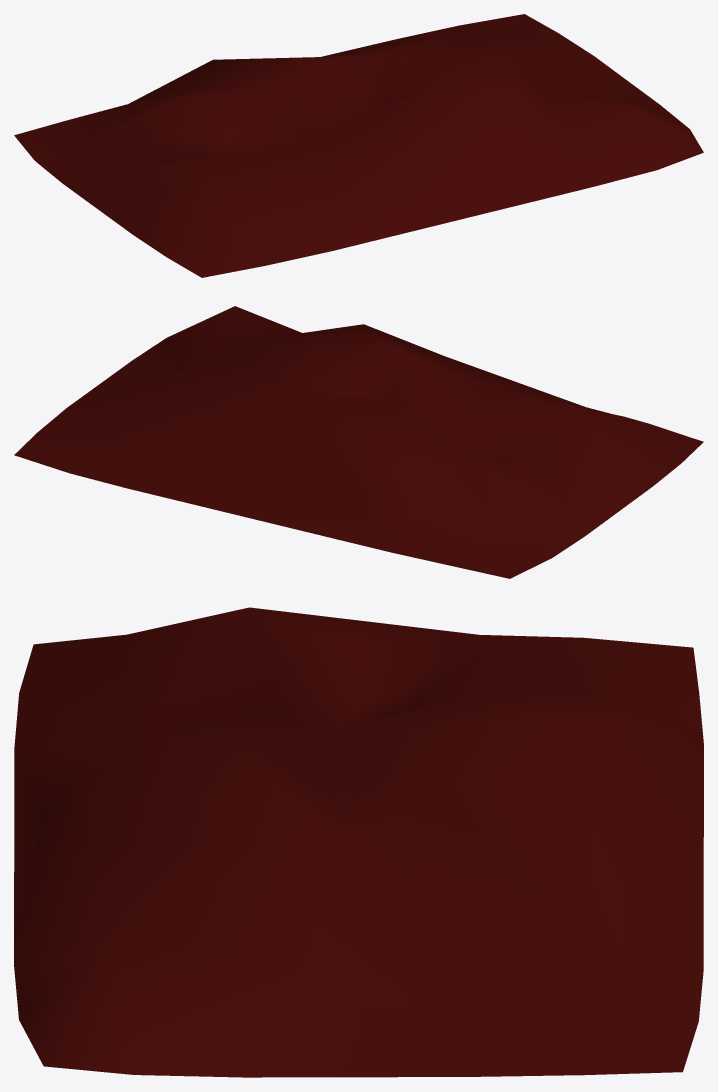
File: HWN20_Mud.glb
3 views of the same model, one above another, from view 1: azimuth 30°, elevation 25°; view 2: azimuth 150°, elevation 25°; view 3: azimuth 270°, elevation 25° (orthographic). The views are drawn at different scales.
Visible parts, largest first — view 1: HWN20_Mud; view 2: HWN20_Mud; view 3: HWN20_Mud.
Part boxes in pixels (box(x1,y1,x2,y2)): HWN20_Mud: box(14, 14, 703, 277); HWN20_Mud: box(14, 306, 703, 578); HWN20_Mud: box(14, 607, 703, 1077).
Size of what is drawn, in the model's own units: 1.01 by 0.1328 by 0.6665.
Materials: 1 (1 with a texture image).
